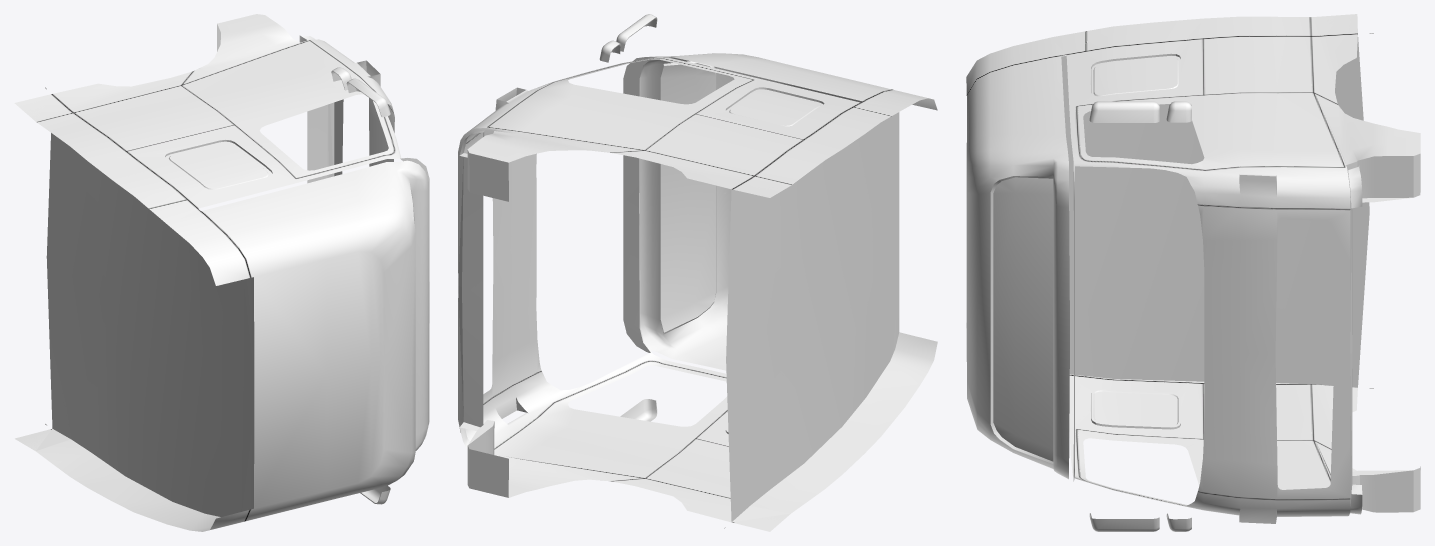
The model's file is cab.obj.
3 renders of one model, left to right at view 1: azimuth 30°, elevation 25°; view 2: azimuth 150°, elevation 25°; view 3: azimuth 270°, elevation 25°, orthographic. The views are drawn at different scales.
Parts seen in each view (by area): view 1: cab_body; view 2: cab_body; view 3: cab_body.
Boxes of the visible parts, x1,y1,x2,y2 form: cab_body: [14, 14, 429, 531]; cab_body: [458, 14, 937, 531]; cab_body: [966, 14, 1420, 531].
Bounding box in the file's own units: 2.37 × 2.9 × 2.79.
Materials: 1 (1 with a texture image).
